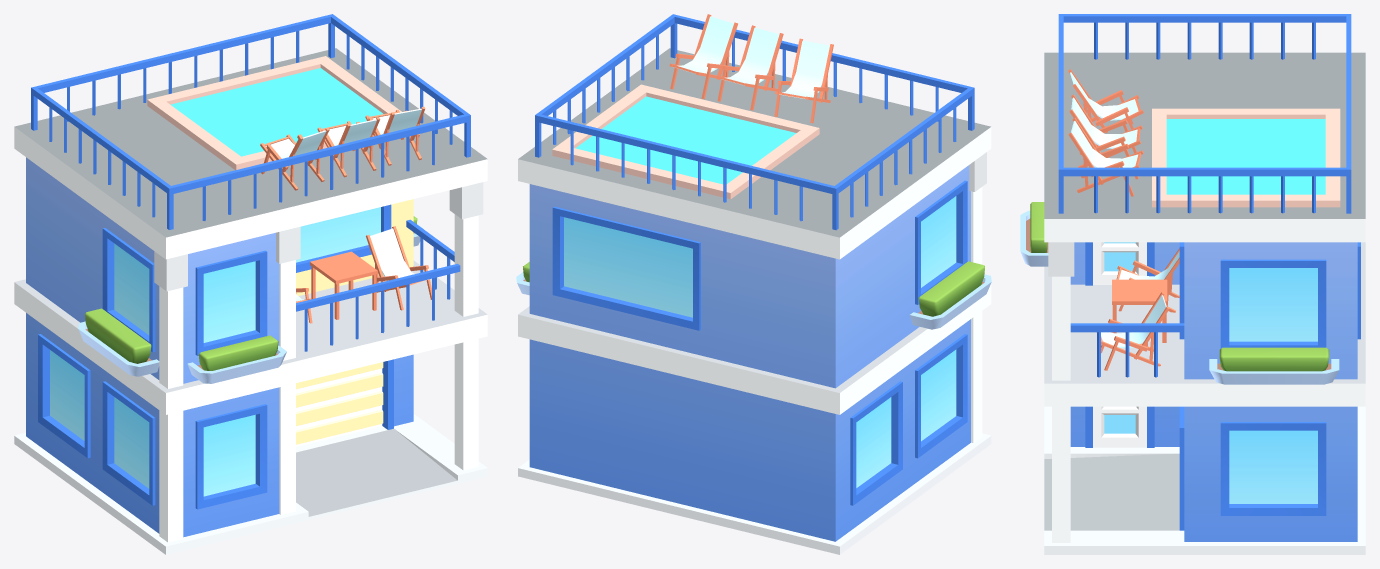
File: city2-building-living-12.glb
3 renders of one model, left to right at view 1: azimuth 30°, elevation 25°; view 2: azimuth 150°, elevation 25°; view 3: azimuth 270°, elevation 25°, orthographic. The views are drawn at different scales.
Visible parts, largest first — view 1: Building_Living_12; view 2: Building_Living_12; view 3: Building_Living_12.
Part boxes in pixels (box(x1,y1,x2,y2)): Building_Living_12: box(14, 14, 487, 554); Building_Living_12: box(516, 14, 991, 554); Building_Living_12: box(1020, 14, 1365, 554).
Bounding box in the file's own units: 9.02 × 8.89 × 7.04.
Materials: 1 (1 with a texture image).
